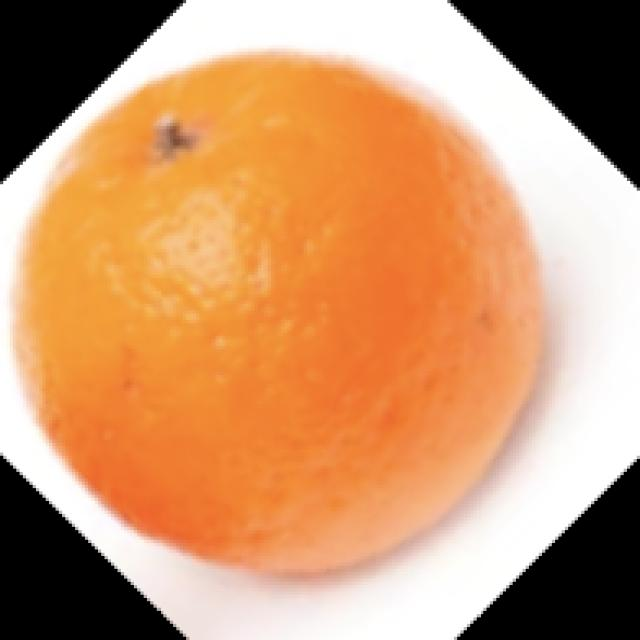orange: (0, 0, 584, 615)
